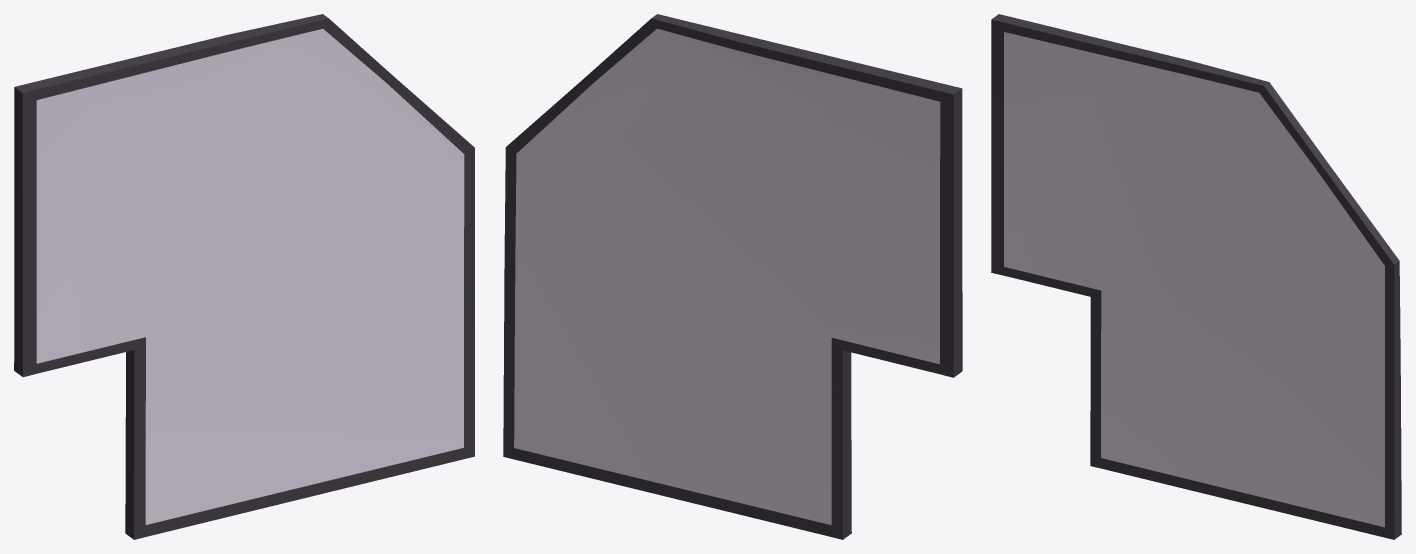
The model's file is obstaculo2.fbx.
The picture shows the model from 3 angles, left to right: view 1: azimuth 30°, elevation 25°; view 2: azimuth 150°, elevation 25°; view 3: azimuth 330°, elevation 25°; orthographic projection. The views are drawn at different scales.
Parts seen in each view (by area): view 1: obstacle.001; view 2: obstacle.001; view 3: obstacle.001.
Part boxes in pixels (bbox=[...]): obstacle.001: bbox=[14, 14, 474, 539]; obstacle.001: bbox=[503, 14, 962, 539]; obstacle.001: bbox=[991, 14, 1401, 539].
Size of the model in its own units: 1282 by 1284 by 44.33.
Materials: 1 (1 with a texture image).
